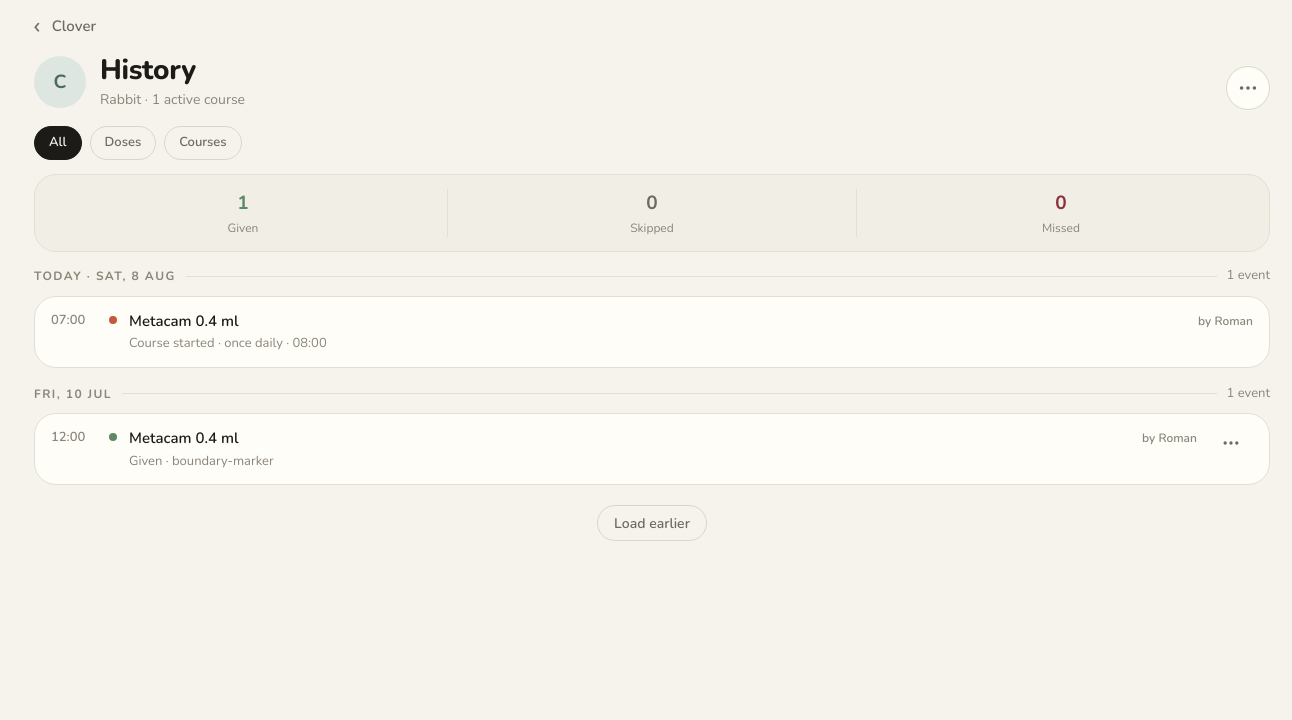
it: HistoryView › Load earlier pages backwards 30 days without duplicating a row at the boundary
Expected: the heading "History" is shown, [100,51,196,89]
Expected: the text "Given · boundary-marker" is shown once, [129,452,274,470]
Click the button "Load earlier" at (652, 523), box [597,505,707,541]
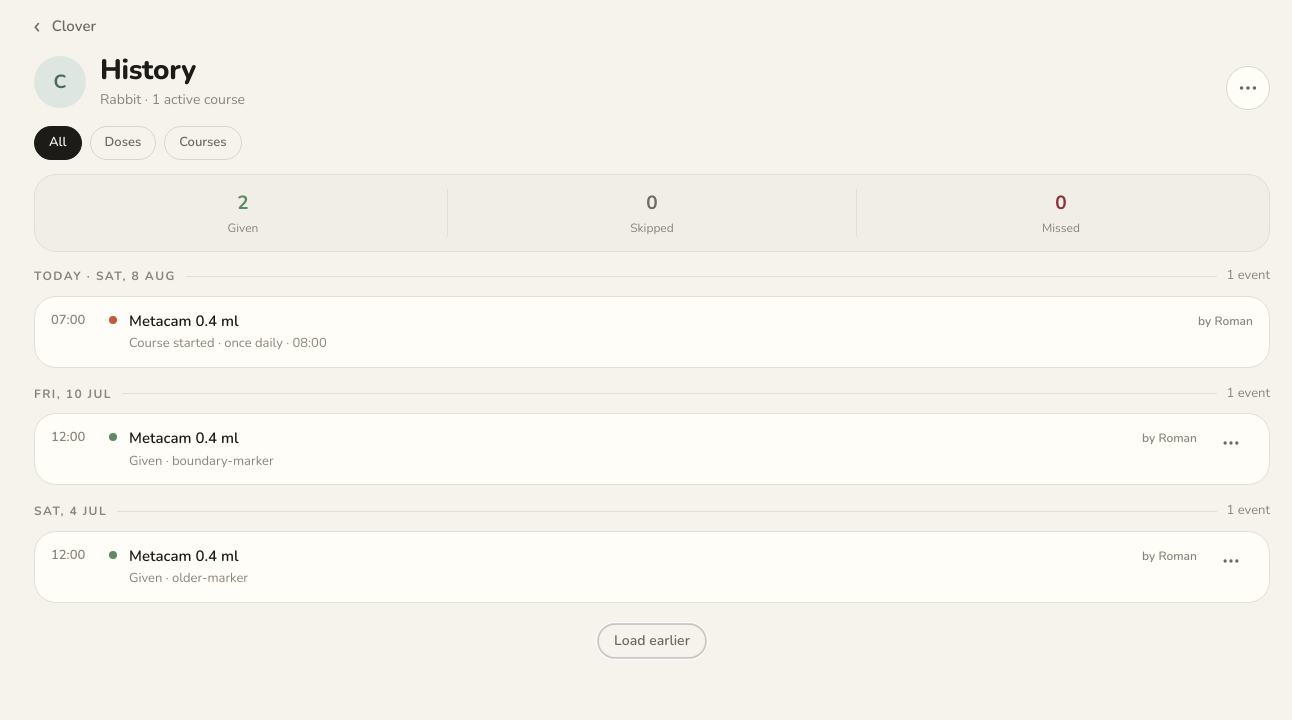
Expected: the text "Given · boundary-marker" is shown once, [129,452,274,470]
Now the text "Given · older-marker" is shown once, box [129,569,248,587]
